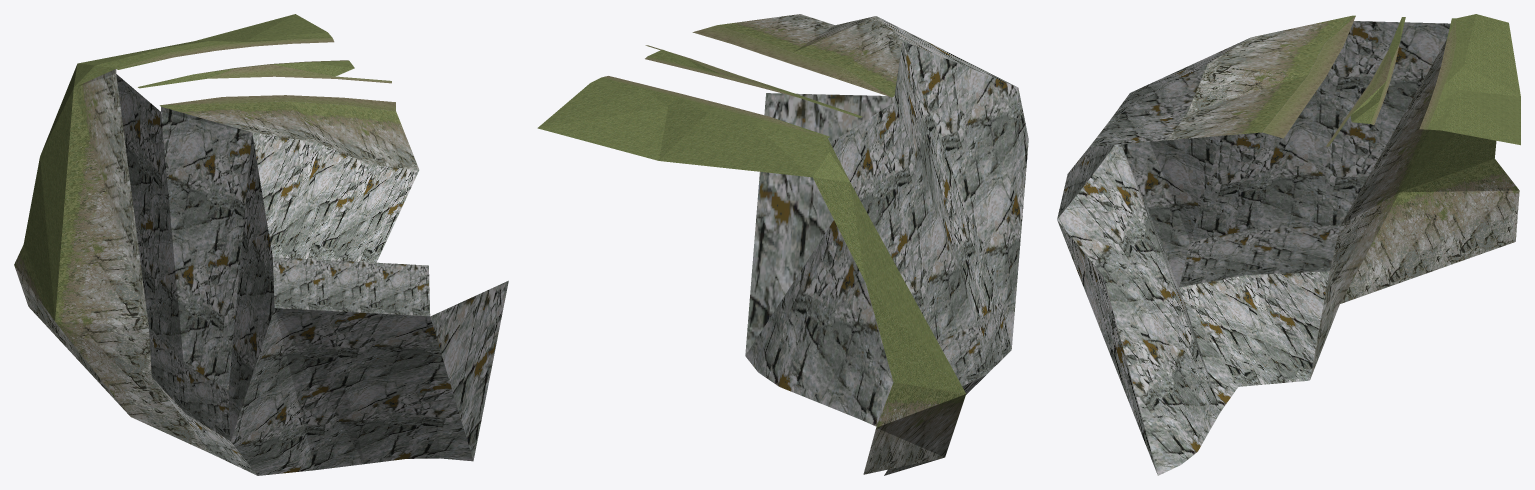
Rendered from cs_landbit_81.obj.
3 renders of one model, left to right at view 1: azimuth 30°, elevation 25°; view 2: azimuth 150°, elevation 25°; view 3: azimuth 270°, elevation 25°, orthographic. The views are drawn at different scales.
Visible parts, largest first — view 1: cs_landbit_81; view 2: cs_landbit_81; view 3: cs_landbit_81.
Part boxes in pixels (left/top/right/bottom): cs_landbit_81: left=14, top=14, right=508, bottom=475; cs_landbit_81: left=537, top=14, right=1028, bottom=475; cs_landbit_81: left=1057, top=14, right=1520, bottom=475.
Size of the model in its own units: 96.32 by 101 by 121.
4 materials, 4 textured.
